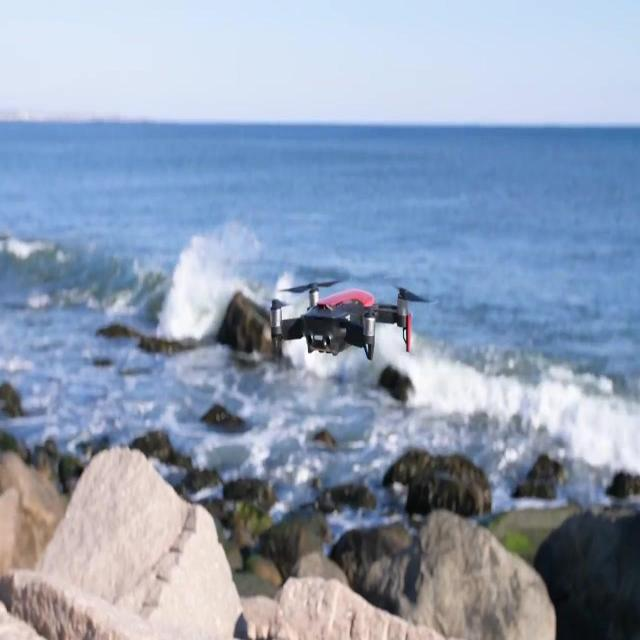UAV: (270, 278, 432, 361)
